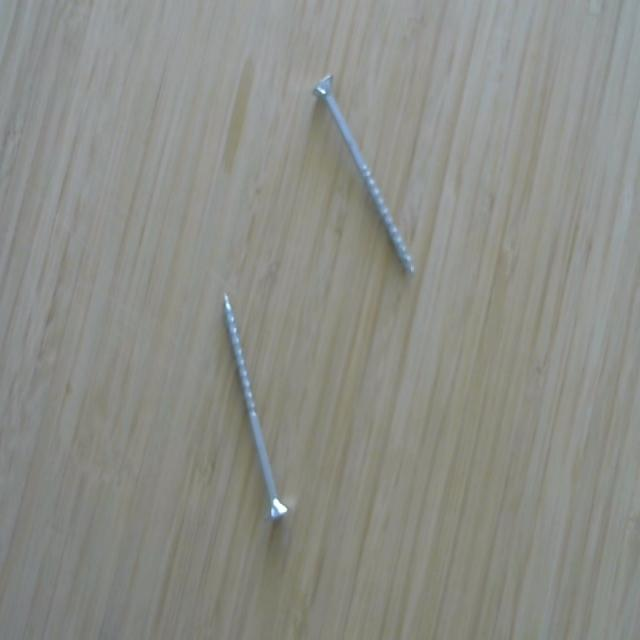Long screw: (308, 71, 421, 285), (214, 285, 291, 529)
